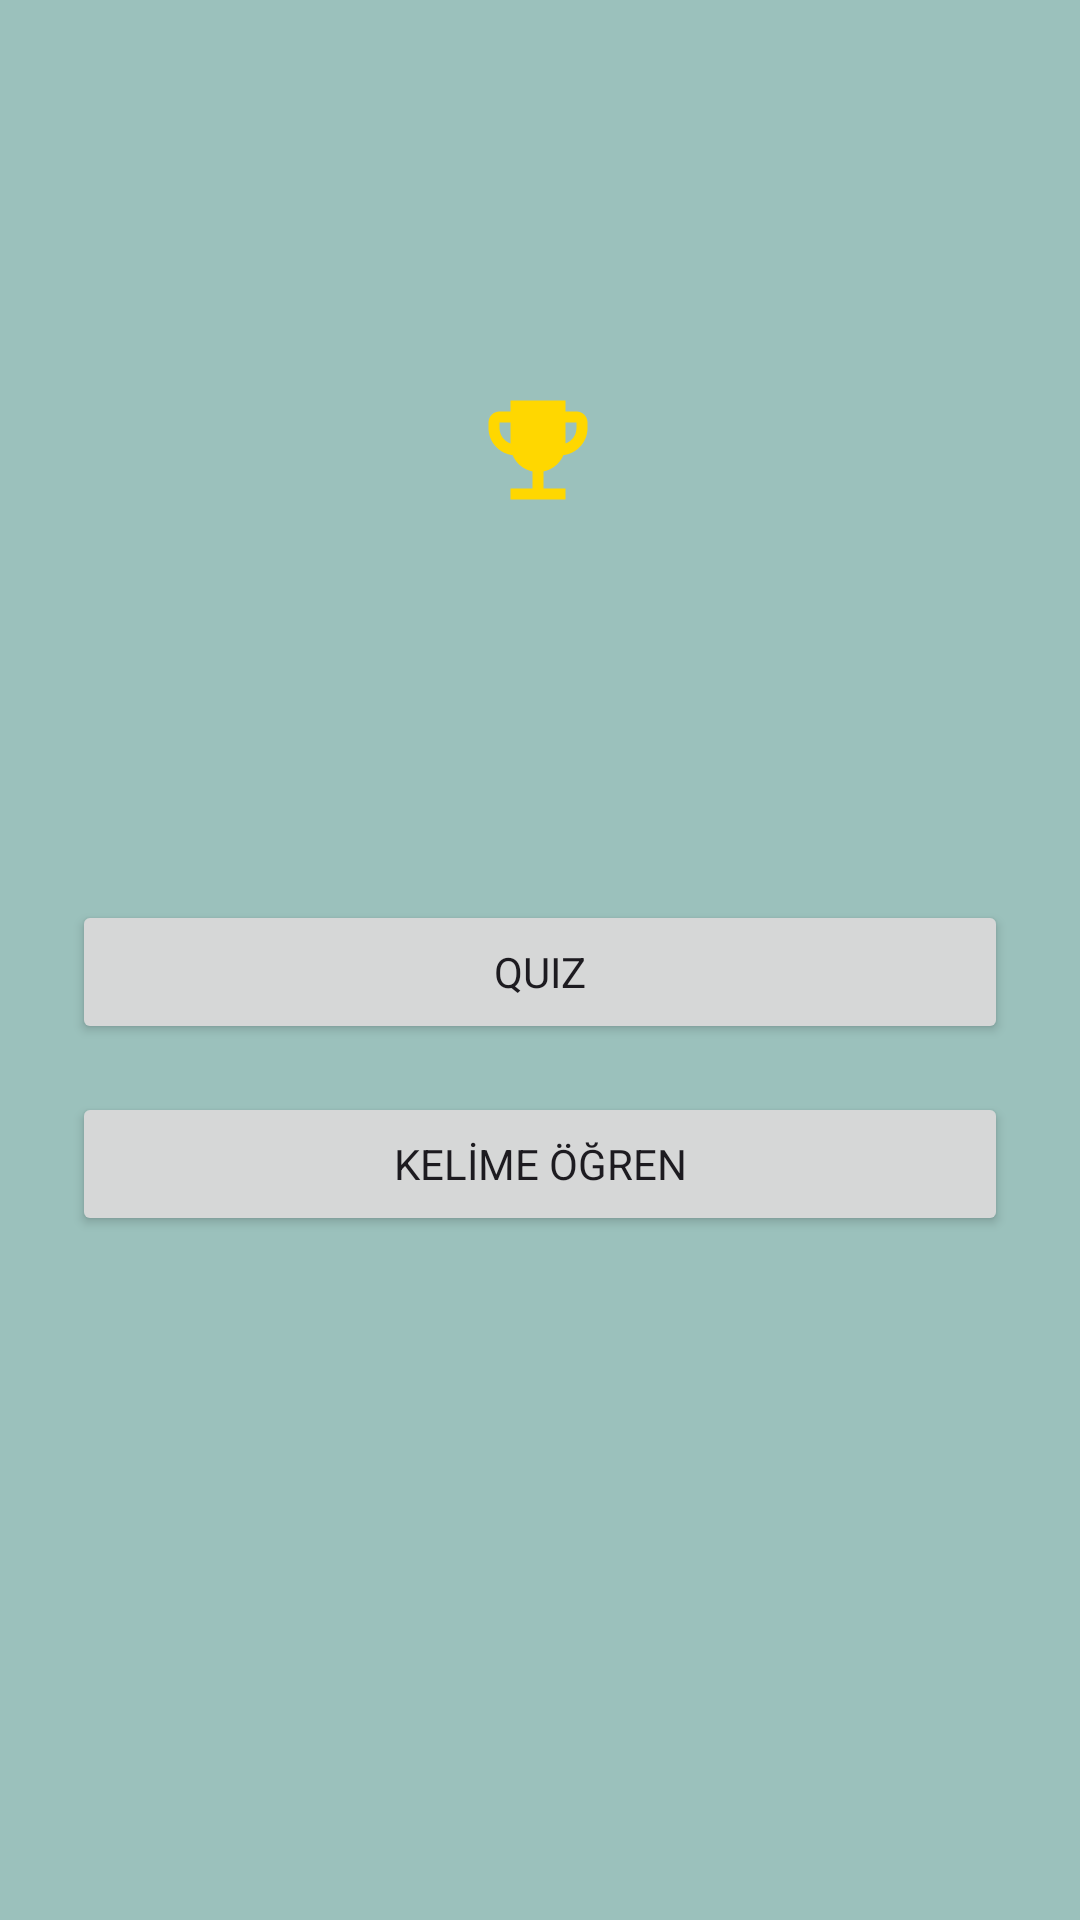

Where to tap for icons on this 1080px×1920px app screen, as (x=x, y=y):
emoji events: (x=538, y=450)
